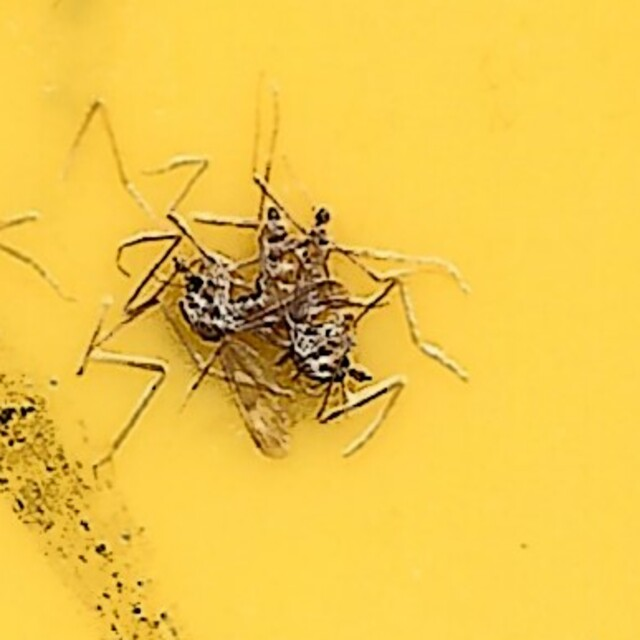Nematocera: (165, 188, 475, 452)
